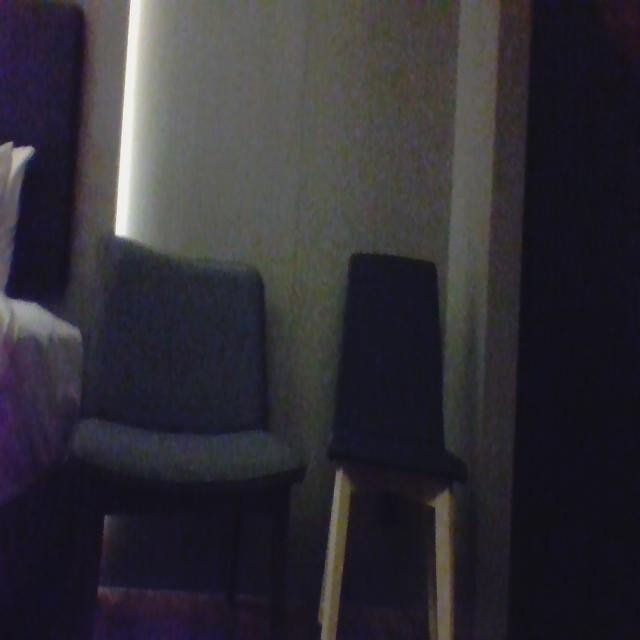empty: (100, 241, 278, 482), (345, 248, 448, 483)
